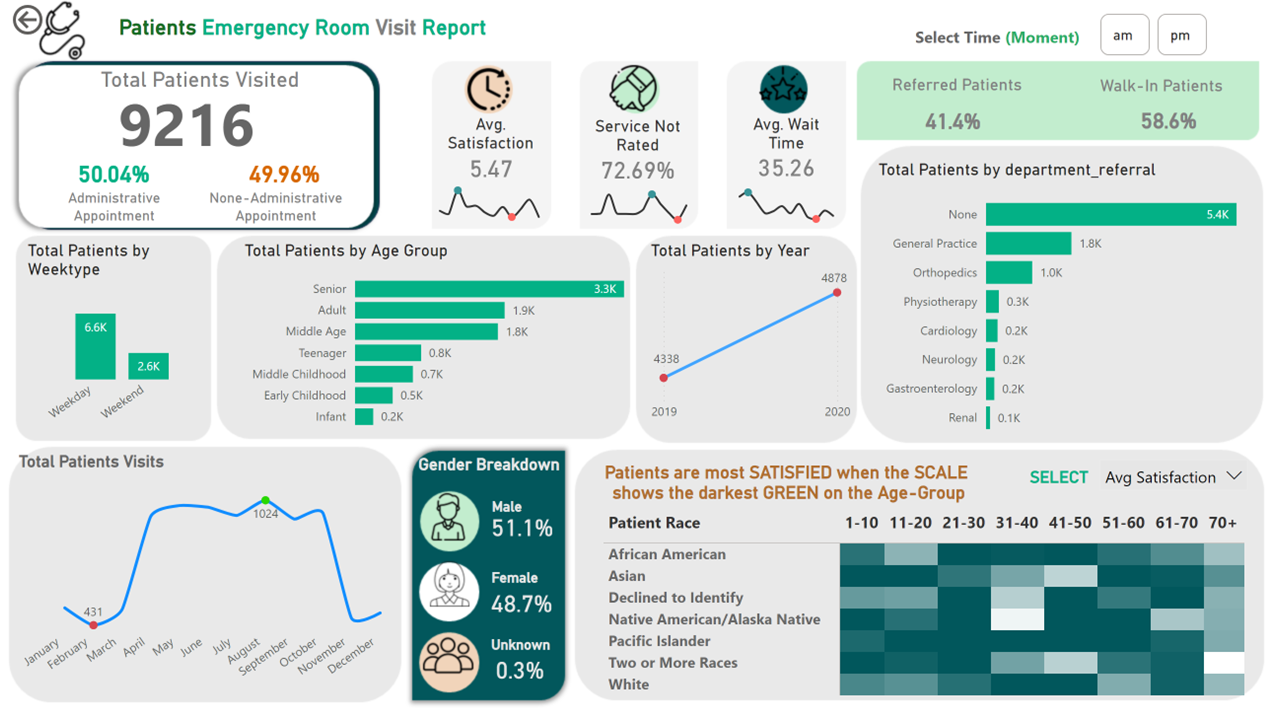

The page's visual inventory and layout, read from the dashboard file:
{"tool":"powerbi","page":{"name":"Page 1","canvas":[1280,720],"ordinal":0},"visuals":[{"type":"card","fields":{"Values":["Measures (2).Total Patients"]},"box":[69.4,90.7,223.9,62.4],"z":0},{"type":"card","fields":{"Values":["Measures (2).% Admin Schedule"]},"box":[51,146,112,59.5],"z":1000},{"type":"card","fields":{"Values":["Measures (2).% No admin schedule"]},"box":[235.3,153.1,90.7,45.4],"z":2000},{"type":"card","title":"Avg. Satisfaction","fields":{"Values":["Measures (2).AvgSatisfactionScore"]},"box":[429.4,115.6,121.1,70.2],"z":3000},{"type":"card","title":"Service Not Rated","fields":{"Values":["Measures (2).%NoRating"]},"box":[586.8,117.6,103.5,69.4],"z":4000},{"type":"card","title":"Avg. Wait Time","fields":{"Values":["Measures (2).AvgWaitTime"]},"box":[741.8,115.6,95,68.8],"z":5000},{"type":"pivotTable","fields":{"Values":["Measures (2).AvgSatisfactionScore"],"Rows":["Hospital ER.patient_race"],"Columns":["Hospital ER.AgeGroup"]},"box":[598.7,513.4,681.3,206.5],"z":6000},{"type":"slicer","fields":{"Values":["Parameter.Parameter"]},"box":[1096.9,455.6,170.7,53.7],"z":7000},{"type":"clusteredBarChart","fields":{"Category":["Hospital ER.AgeGroup"],"Y":["Measures (2).Total Patients"]},"box":[235.4,243.6,418.4,200.9],"z":8000},{"type":"lineChart","title":"Total Patients Visits","fields":{"Category":["DateTable.Month"],"Y":["Measures (2).Total Patients","Measures (2).ValueMaxPoint"]},"box":[5.5,458.3,388.1,250.5],"z":9000},{"type":"actionButton","box":[0,0,100,40],"z":10000},{"type":"advancedSlicerVisual","fields":{"Values":["Hospital ER.time"]},"box":[1102.7,8.5,177.2,52.4],"z":11000},{"type":"lineChart","title":"Total Patients by Year","fields":{"Y":["Measures (2).ValueMaxPointYear","Measures (2).Total Patients"],"Category":["DateTable.Year"]},"box":[646.9,243.6,212,191.3],"z":12000},{"type":"clusteredBarChart","fields":{"Y":["Measures (2).Total Patients"],"Category":["Hospital ER.department_referral"]},"box":[878.1,162.4,395,290.4],"z":13000},{"type":"card","fields":{"Values":["Measures (2).PercentageWithReferral"]},"box":[912.5,101.8,90.8,41.3],"z":14000},{"type":"card","fields":{"Values":["Measures (2).PercentageWithoutReferral"]},"box":[1136.9,101.8,79.8,39.9],"z":15000},{"type":"textbox","box":[34,185.7,147.4,46.8],"z":16000},{"type":"textbox","box":[181.4,185.7,181.4,46.8],"z":17000},{"type":"card","fields":{"Values":["Measures (2).HitMap Caption"]},"box":[561.5,452.8,459.7,71.6],"z":18000},{"type":"textbox","box":[884.4,70.9,157.3,36.9],"z":19000},{"type":"textbox","box":[1096.9,71.6,145.9,37.2],"z":20000},{"type":"columnChart","title":"Total Patients by Weektype","fields":{"Y":["Measures (2).Total Patients"],"Category":["DateTable.IsWeekend"]},"box":[15.1,243.6,203.7,203.7],"z":21000},{"type":"card","fields":{"Values":["Measures (2).% Female Visit"]},"box":[468,586.7,106,48.2],"z":22000},{"type":"card","fields":{"Values":["Measures (2).% Male Visit"]},"box":[481.7,511,78.5,46.8],"z":23000},{"type":"card","fields":{"Values":["Measures (2).% Unknown"]},"box":[481.7,661,74.3,35.8],"z":24000},{"type":"PBI_CV_25997FEB_F466_44FA_B562_AC4063283C4C","fields":{"measure":["Measures (2).AvgSatisfactionScore"],"axis":["DateTable.Month"]},"box":[419.8,176.2,140.4,55.1],"z":25000},{"type":"PBI_CV_25997FEB_F466_44FA_B562_AC4063283C4C","fields":{"measure":["Measures (2).%NoRating"],"axis":["DateTable.Month"]},"box":[574,180,136.1,53.9],"z":26000},{"type":"PBI_CV_25997FEB_F466_44FA_B562_AC4063283C4C","fields":{"measure":["Measures (2).AvgWaitTime"],"axis":["DateTable.Month"]},"box":[724,177.5,134.9,55.1],"z":27000},{"type":"textbox","box":[44,63.3,301.4,56.4],"z":27001},{"type":"textbox","box":[337.3,456.4,301.9,56.7],"z":27002},{"type":"textbox","box":[464.9,498.9,82.2,29.8],"z":27003},{"type":"textbox","box":[473.4,571.2,82.2,29.8],"z":27004},{"type":"textbox","box":[479.1,639.2,82.2,29.8],"z":27005},{"type":"textbox","box":[1024.7,469.1,82.2,29.8],"z":27006},{"type":"textbox","box":[92.1,9.9,413.9,42.5],"z":27007},{"type":"textbox","box":[901.4,21.3,205.5,42.5],"z":27008}]}

Visuals, with their boxes in screenshot pixels (x1, y1, x2, y2), scaled from the page's 1280x720 canvas onto the 1280x720 screenshot:
card - Measures (2).Total Patients: 69/91/293/153
card - Measures (2).% Admin Schedule: 51/146/163/206
card - Measures (2).% No admin schedule: 235/153/326/198
"Avg. Satisfaction" card: 429/116/550/186
"Service Not Rated" card: 587/118/690/187
"Avg. Wait Time" card: 742/116/837/184
pivotTable - Measures (2).AvgSatisfactionScore x Hospital ER.patient_race: 599/513/1279/719
slicer - Parameter.Parameter: 1097/456/1268/509
clusteredBarChart - Hospital ER.AgeGroup x Measures (2).Total Patients: 235/244/654/444
"Total Patients Visits" lineChart: 6/458/394/709
actionButton: 0/0/100/40
advancedSlicerVisual - Hospital ER.time: 1103/8/1279/61
"Total Patients by Year" lineChart: 647/244/859/435
clusteredBarChart - Measures (2).Total Patients x Hospital ER.department_referral: 878/162/1273/453
card - Measures (2).PercentageWithReferral: 912/102/1003/143
card - Measures (2).PercentageWithoutReferral: 1137/102/1217/142
textbox: 34/186/181/232
textbox: 181/186/363/232
card - Measures (2).HitMap Caption: 562/453/1021/524
textbox: 884/71/1042/108
textbox: 1097/72/1243/109
"Total Patients by Weektype" columnChart: 15/244/219/447
card - Measures (2).% Female Visit: 468/587/574/635
card - Measures (2).% Male Visit: 482/511/560/558
card - Measures (2).% Unknown: 482/661/556/697
PBI_CV_25997FEB_F466_44FA_B562_AC4063283C4C - Measures (2).AvgSatisfactionScore x DateTable.Month: 420/176/560/231
PBI_CV_25997FEB_F466_44FA_B562_AC4063283C4C - Measures (2).%NoRating x DateTable.Month: 574/180/710/234
PBI_CV_25997FEB_F466_44FA_B562_AC4063283C4C - Measures (2).AvgWaitTime x DateTable.Month: 724/178/859/233
textbox: 44/63/345/120
textbox: 337/456/639/513
textbox: 465/499/547/529
textbox: 473/571/556/601
textbox: 479/639/561/669
textbox: 1025/469/1107/499
textbox: 92/10/506/52
textbox: 901/21/1107/64
